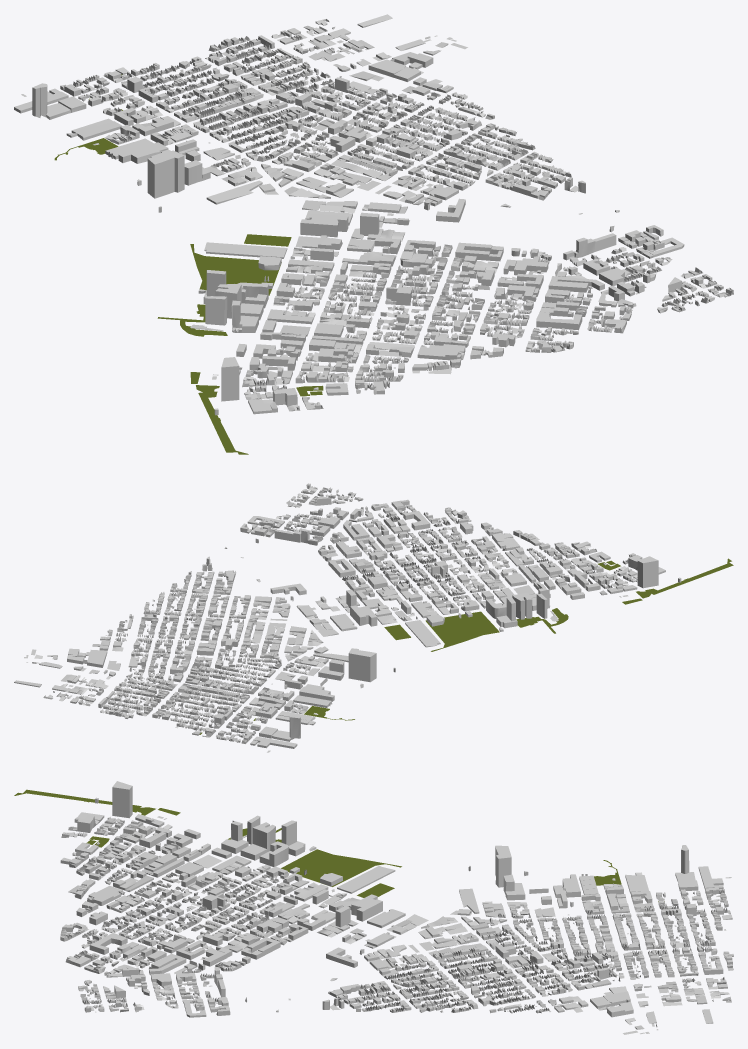
Rendered from area9_lod0-transformed.glb.
3 renders of one model, top to bottom at view 1: azimuth 30°, elevation 25°; view 2: azimuth 150°, elevation 25°; view 3: azimuth 270°, elevation 25°, orthographic. The views are drawn at different scales.
Parts seen in each view (by area): view 1: Areas:building.011, Areas:leisure.010; view 2: Areas:building.011, Areas:leisure.010; view 3: Areas:building.011, Areas:leisure.010.
Part boxes in pixels (<box>): Areas:building.011: <box>14,14,733,415</box>; Areas:leisure.010: <box>54,74,323,454</box>; Areas:building.011: <box>14,483,681,752</box>; Areas:leisure.010: <box>199,558,733,734</box>; Areas:building.011: <box>60,781,733,1034</box>; Areas:leisure.010: <box>14,789,664,901</box>.
Bounding box in the file's own units: 2442 × 134 × 3029.
